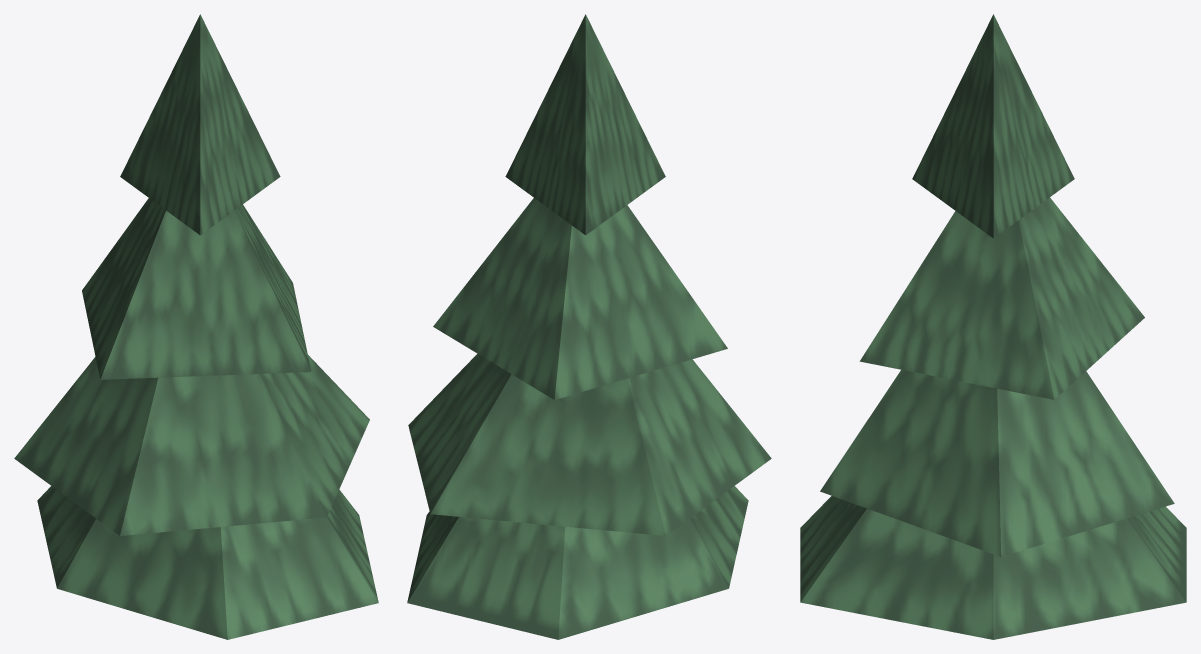
The model's file is env_Tree_Coniferous_C.fbx.
The picture shows the model from 3 angles, left to right: view 1: azimuth 30°, elevation 25°; view 2: azimuth 150°, elevation 25°; view 3: azimuth 270°, elevation 25°; orthographic projection.
Visible parts, largest first — view 1: env_Tree_Coniferous_C; view 2: env_Tree_Coniferous_C; view 3: env_Tree_Coniferous_C.
Boxes of the visible parts, x1,y1,x2,y2 form: env_Tree_Coniferous_C: (14,14,378,639); env_Tree_Coniferous_C: (407,14,771,639); env_Tree_Coniferous_C: (800,14,1186,639).
Size of the model in its own units: 448 by 729 by 466.
